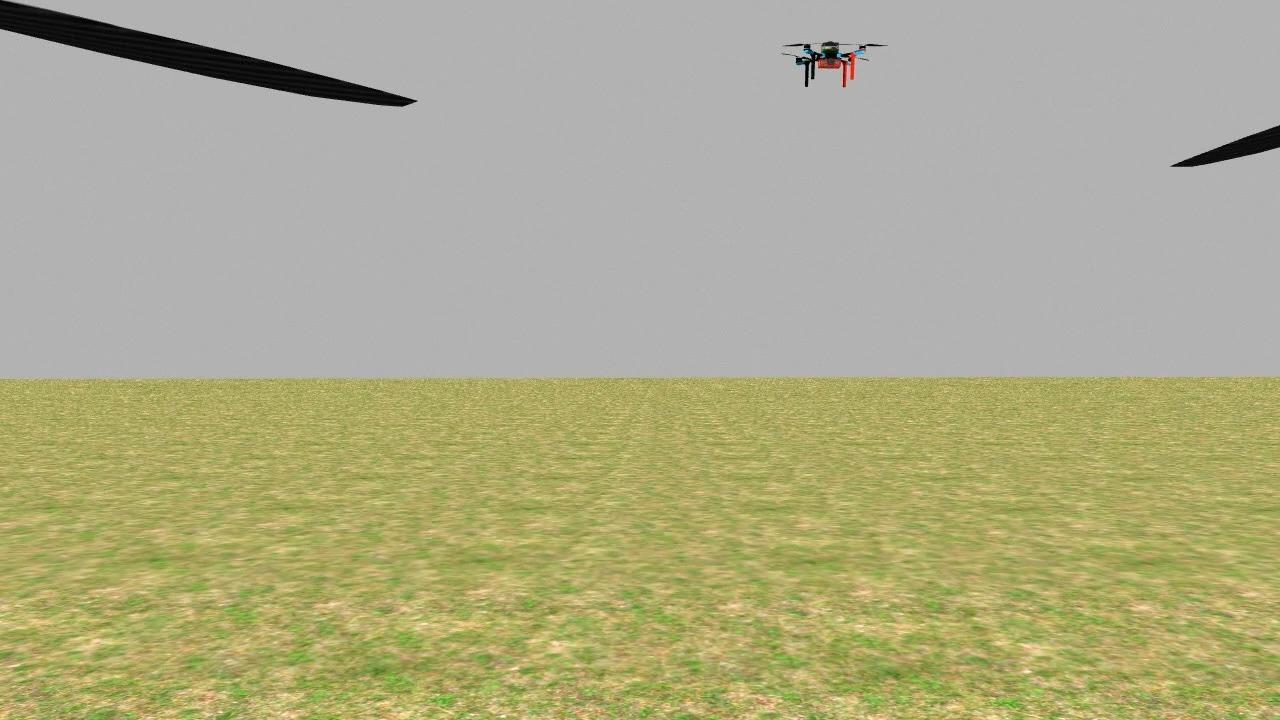UAV: (773, 29, 880, 98)
